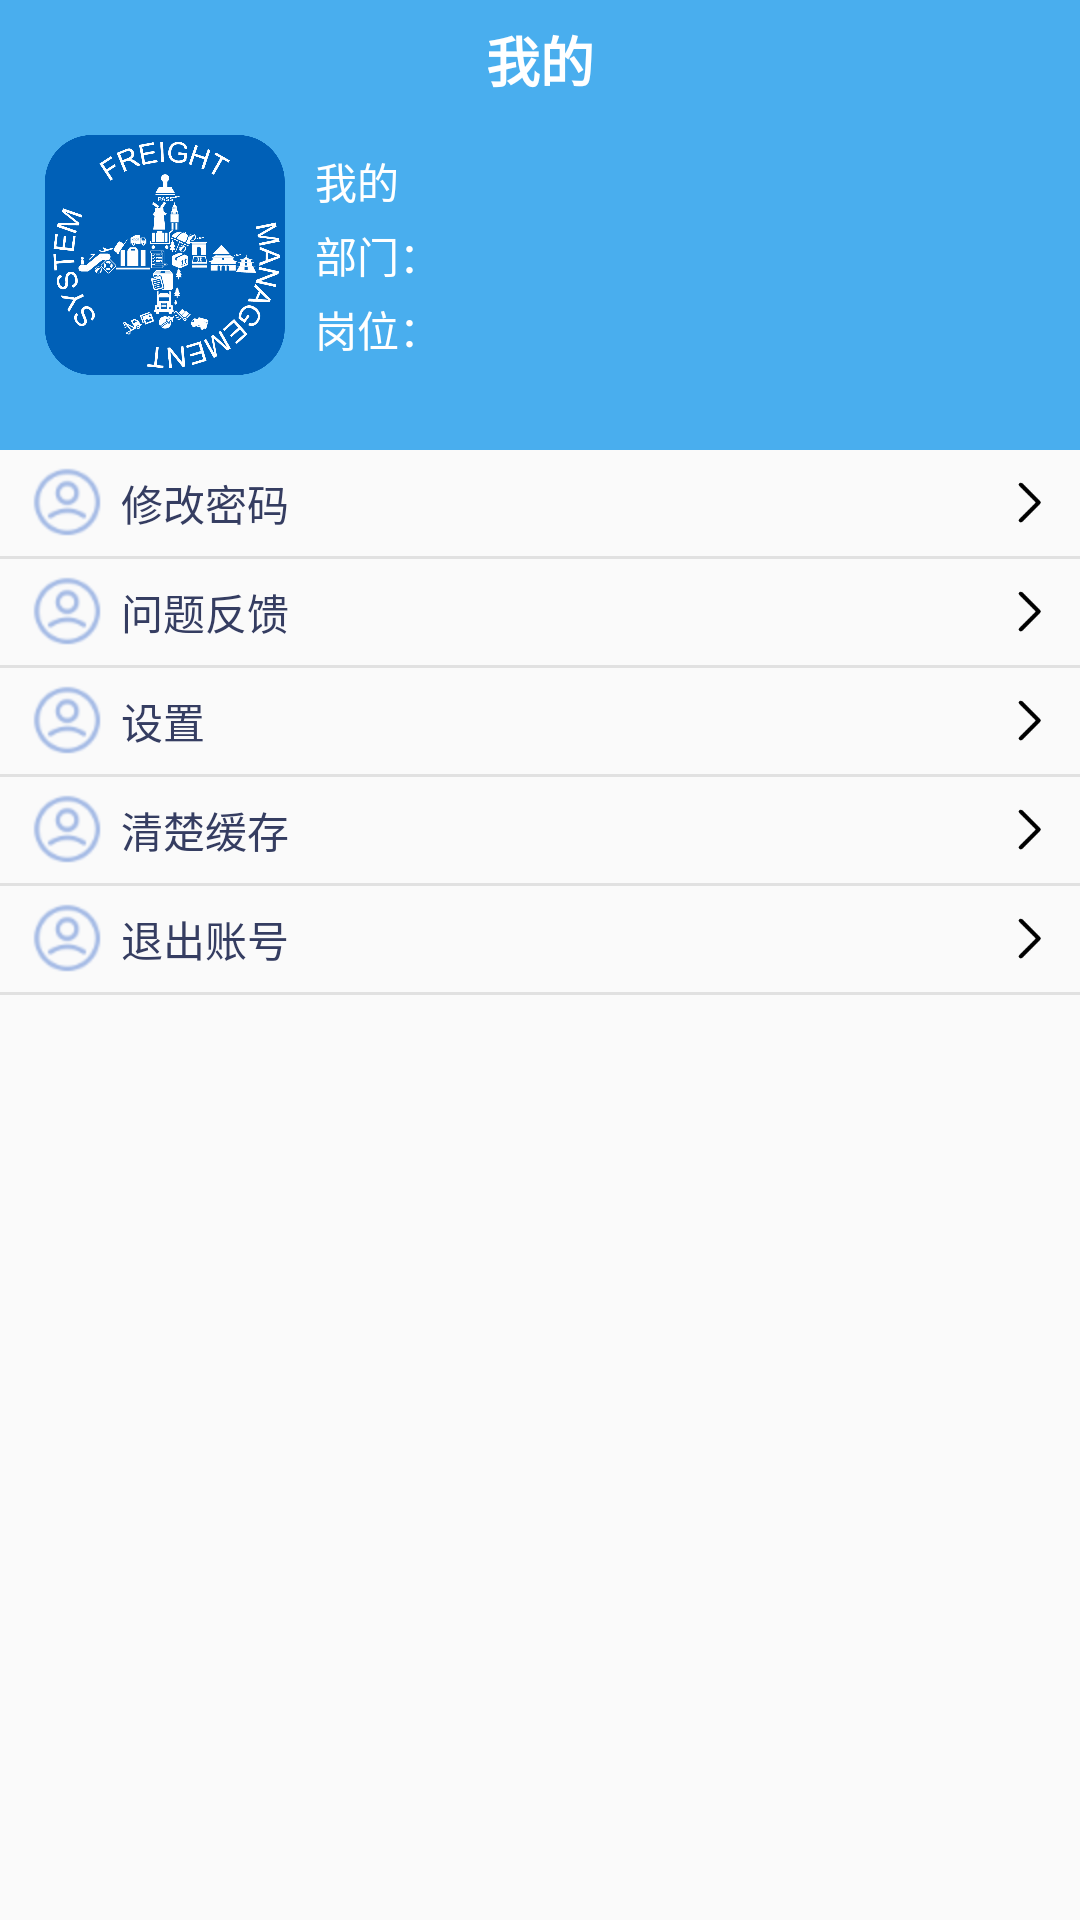

Named icons in this screenshot (1080x1920) and their centers, point (x, y):
arrow right: point (1029, 502), point (1029, 611), point (1029, 720), point (1029, 829), point (1029, 938)
user: point (67, 502), point (67, 611), point (67, 720), point (67, 829), point (67, 938)
